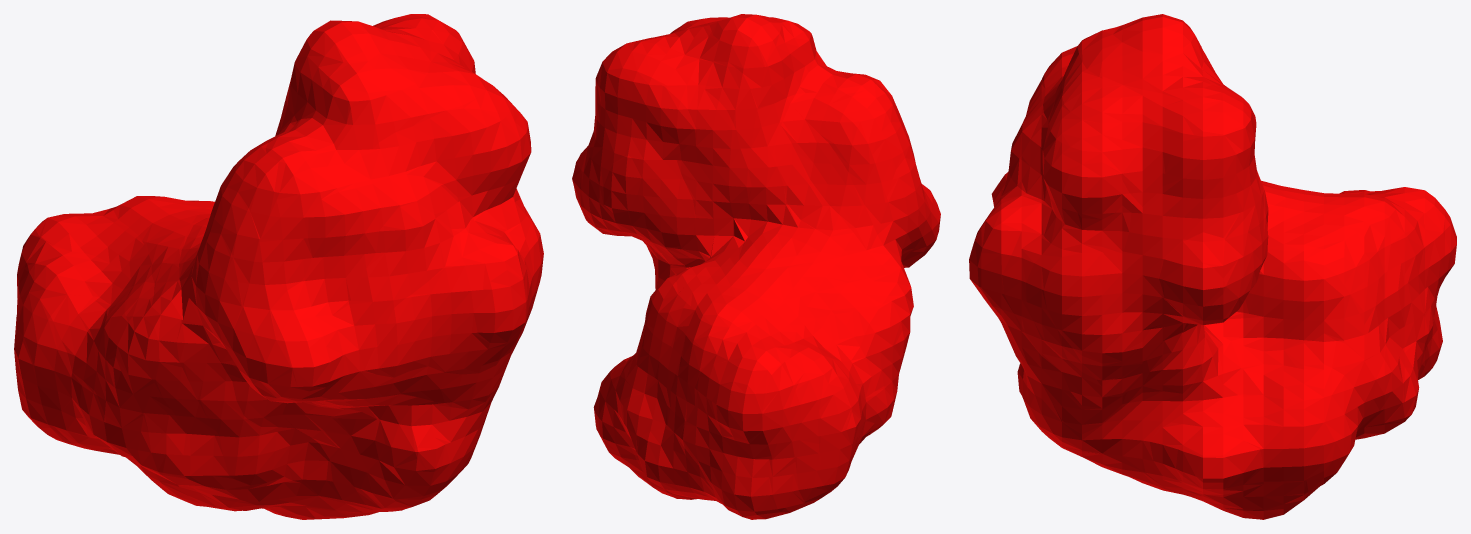
Rendered from mtlD_coarse.dae.
3 views of the same model, side by side, from view 1: azimuth 30°, elevation 25°; view 2: azimuth 150°, elevation 25°; view 3: azimuth 270°, elevation 25° (orthographic). The views are drawn at different scales.
Parts seen in each view (by area): view 1: mtlD; view 2: mtlD; view 3: mtlD.
Boxes of the visible parts, x1=… form: mtlD: x1=14, y1=14, x2=543, y2=519; mtlD: x1=572, y1=14, x2=940, y2=519; mtlD: x1=969, y1=14, x2=1456, y2=519.
Size of the model in its own units: 54.67 by 68.1 by 61.44.
